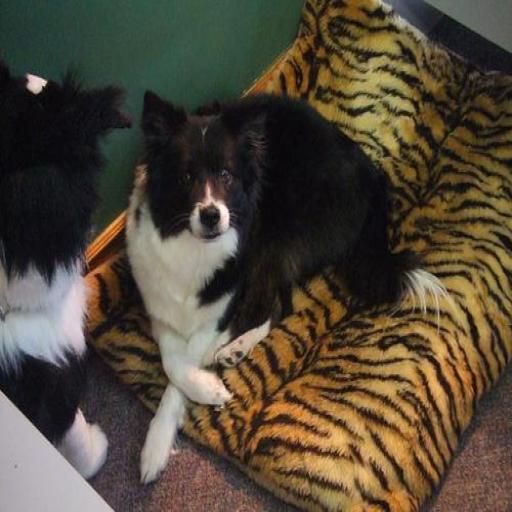dog_face: (136, 95, 262, 238)
